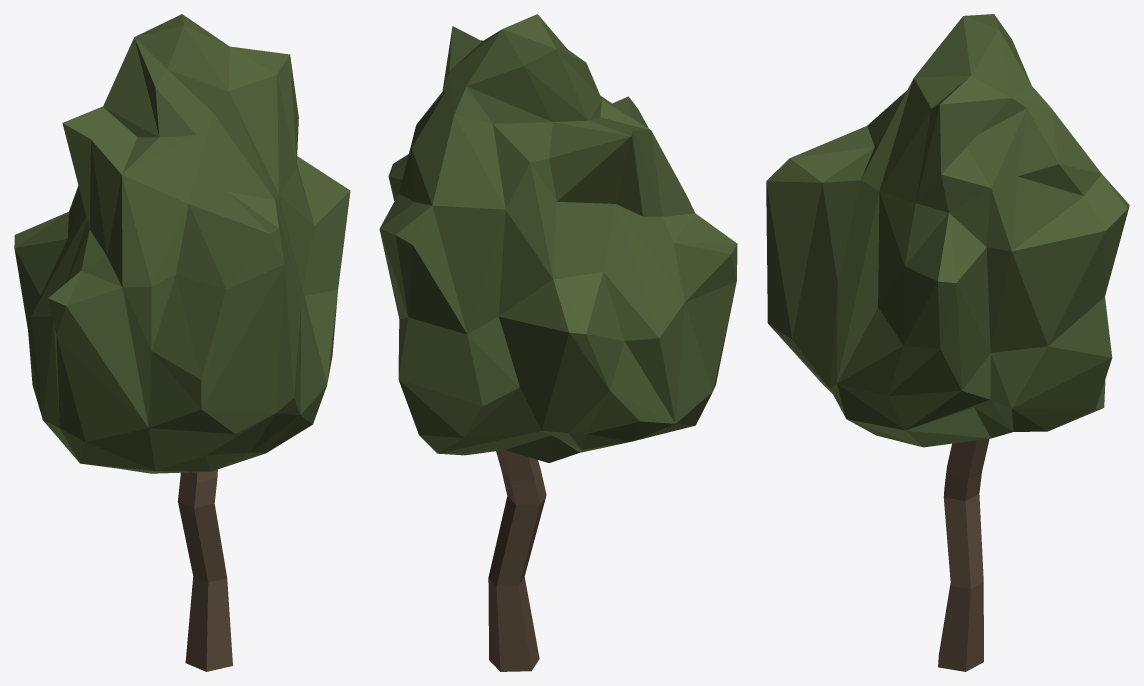
The model's file is Tree_091.fbx.
3 views of the same model, side by side, from view 1: azimuth 30°, elevation 25°; view 2: azimuth 150°, elevation 25°; view 3: azimuth 270°, elevation 25° (orthographic). The views are drawn at different scales.
Visible parts, largest first — view 1: Tree_091; view 2: Tree_091; view 3: Tree_091.
Boxes of the visible parts, x1=… form: Tree_091: x1=14, y1=14, x2=350, y2=671; Tree_091: x1=379, y1=14, x2=737, y2=671; Tree_091: x1=766, y1=14, x2=1129, y2=671.
Size of the model in its own units: 0.9113 by 1.76 by 0.9164.
1 material, 1 textured.
